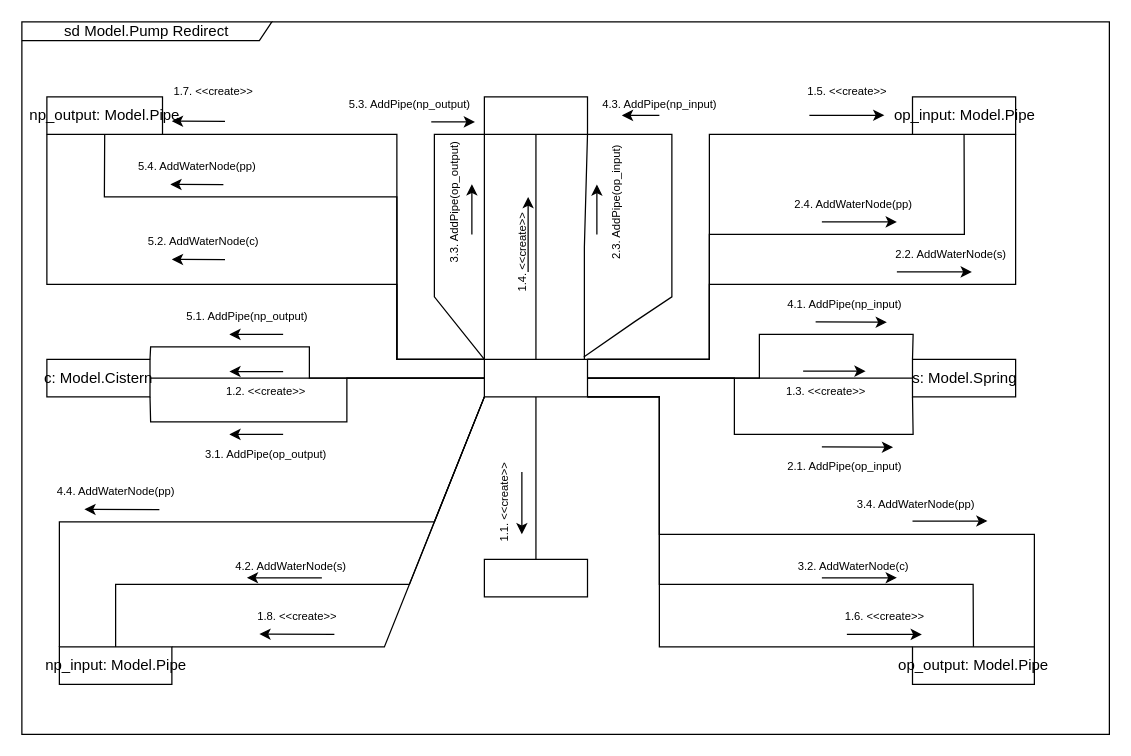
This 1131x756 diagram has some shape labels left out. The centre of each missing label's shape, as x and y in pixels:
"m: Model.Mechanic" goes at point (535, 577).
"main" goes at point (535, 377).
"pp: Model.Pump" goes at point (535, 115).
